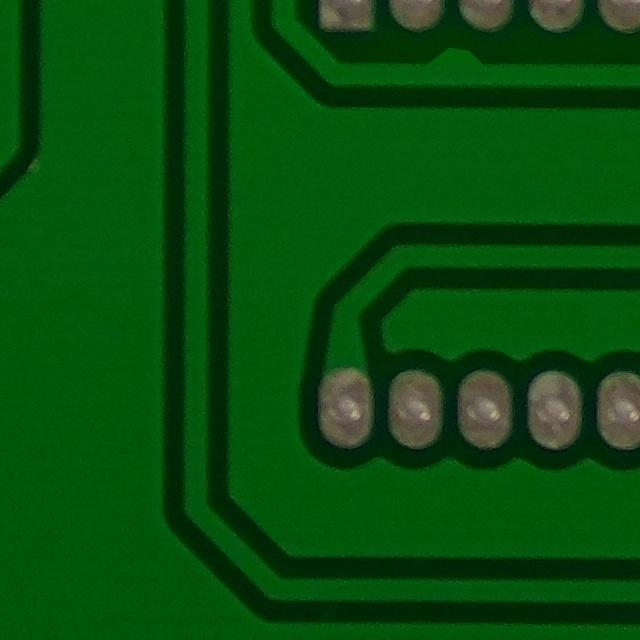spur: (394, 33, 510, 97)
